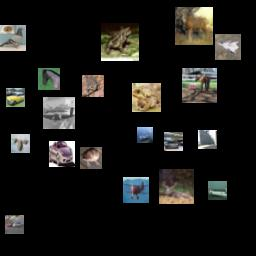airplane: (43, 97, 75, 129), (123, 177, 149, 203), (215, 34, 241, 60), (208, 181, 227, 200), (11, 134, 30, 153)
automobile: (49, 141, 75, 167), (164, 132, 183, 151), (6, 88, 25, 107), (5, 215, 24, 234)
bird: (0, 25, 26, 51), (80, 147, 102, 169)
deer: (175, 7, 213, 45), (159, 169, 194, 204)
frog: (101, 23, 139, 61), (132, 83, 161, 112), (82, 75, 104, 97)
ship: (198, 130, 217, 149), (137, 127, 153, 143)
